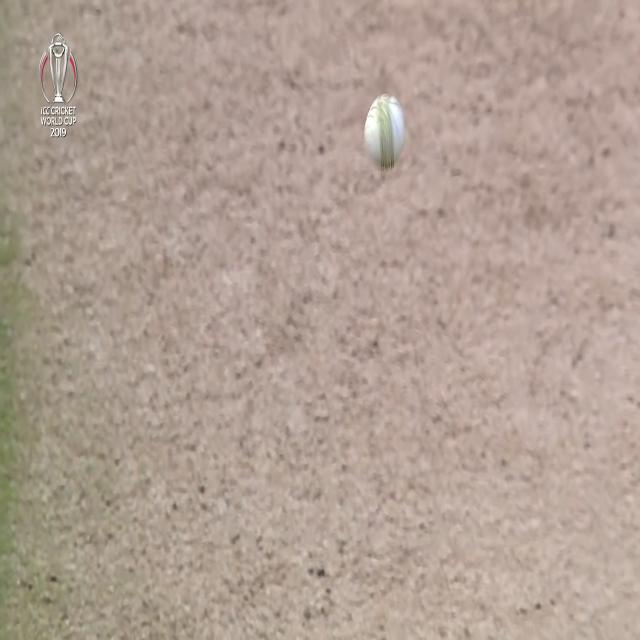Cricket ball: (363, 90, 407, 172)
